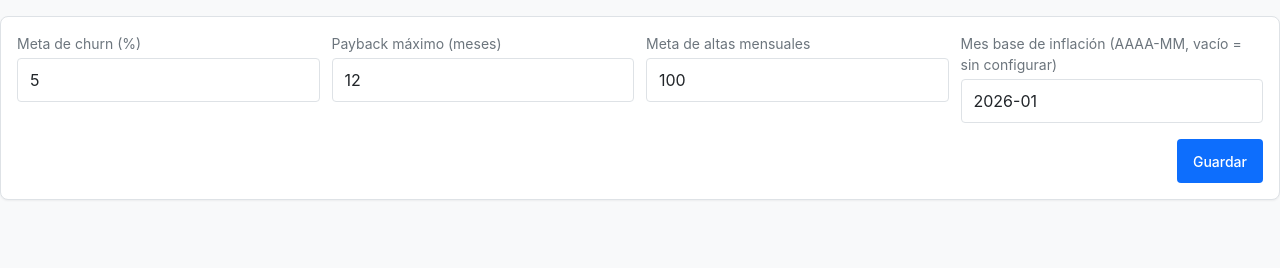
TargetsBody › rechaza monthlyNewContractsGoal fuera de Int32 en el cliente, espejando la cota del BE (bloqueante 🔴5)
This screenshot has width=1280, height=268.
Replace the text in the number field labelled "Meta de altas mensuales" with "10000000000" at (797, 80), box [646, 58, 948, 102]
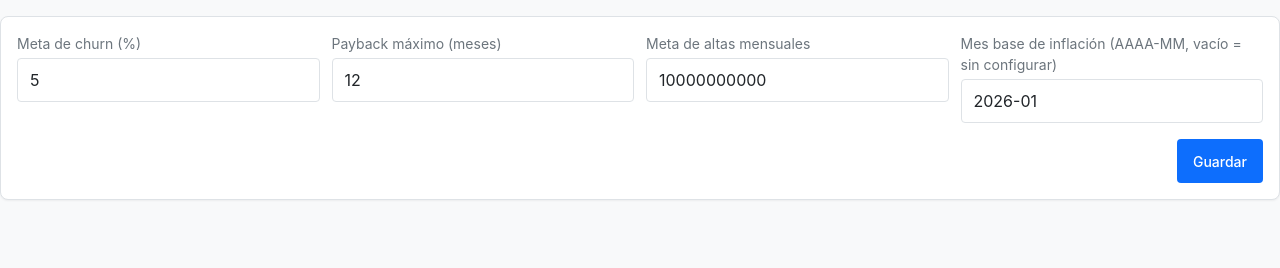
Click the button "Guardar" at (1220, 161), box [1177, 139, 1263, 183]
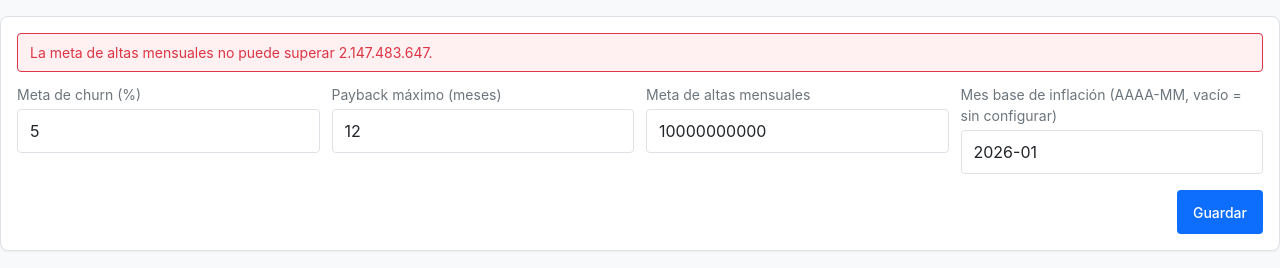
Expected: the message "La meta de altas mensuales no puede superar 2.147.483.647." is shown, [17, 33, 1263, 72]
